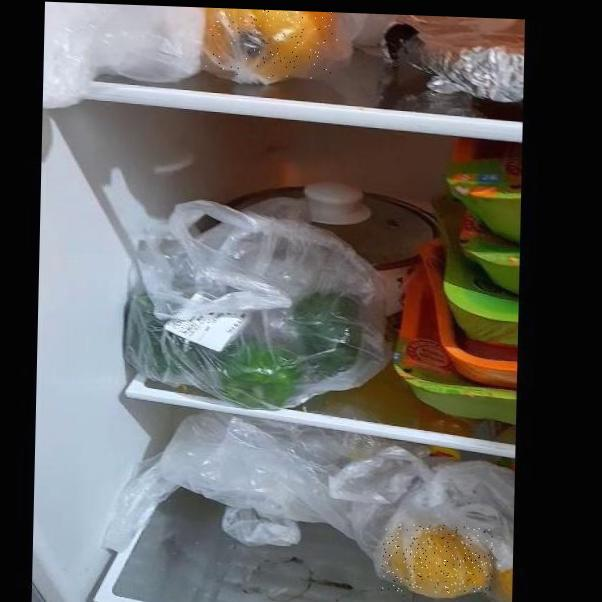lemon: (205, 8, 339, 80), (381, 522, 494, 595)
